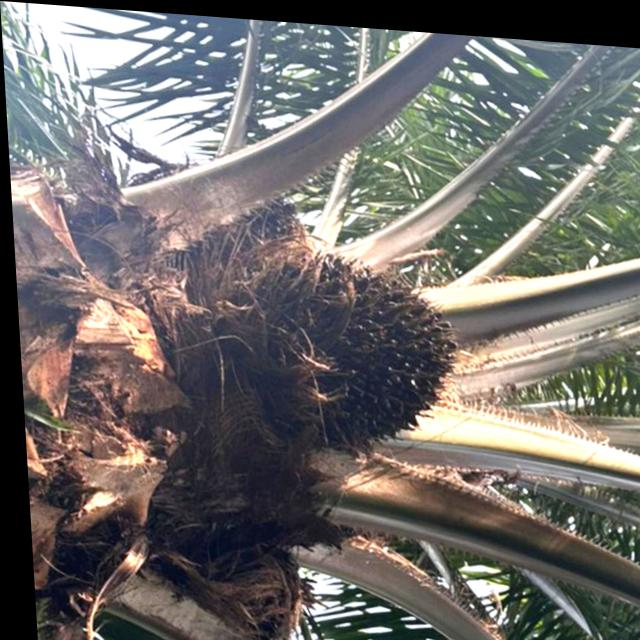almost: (234, 243, 467, 449)
